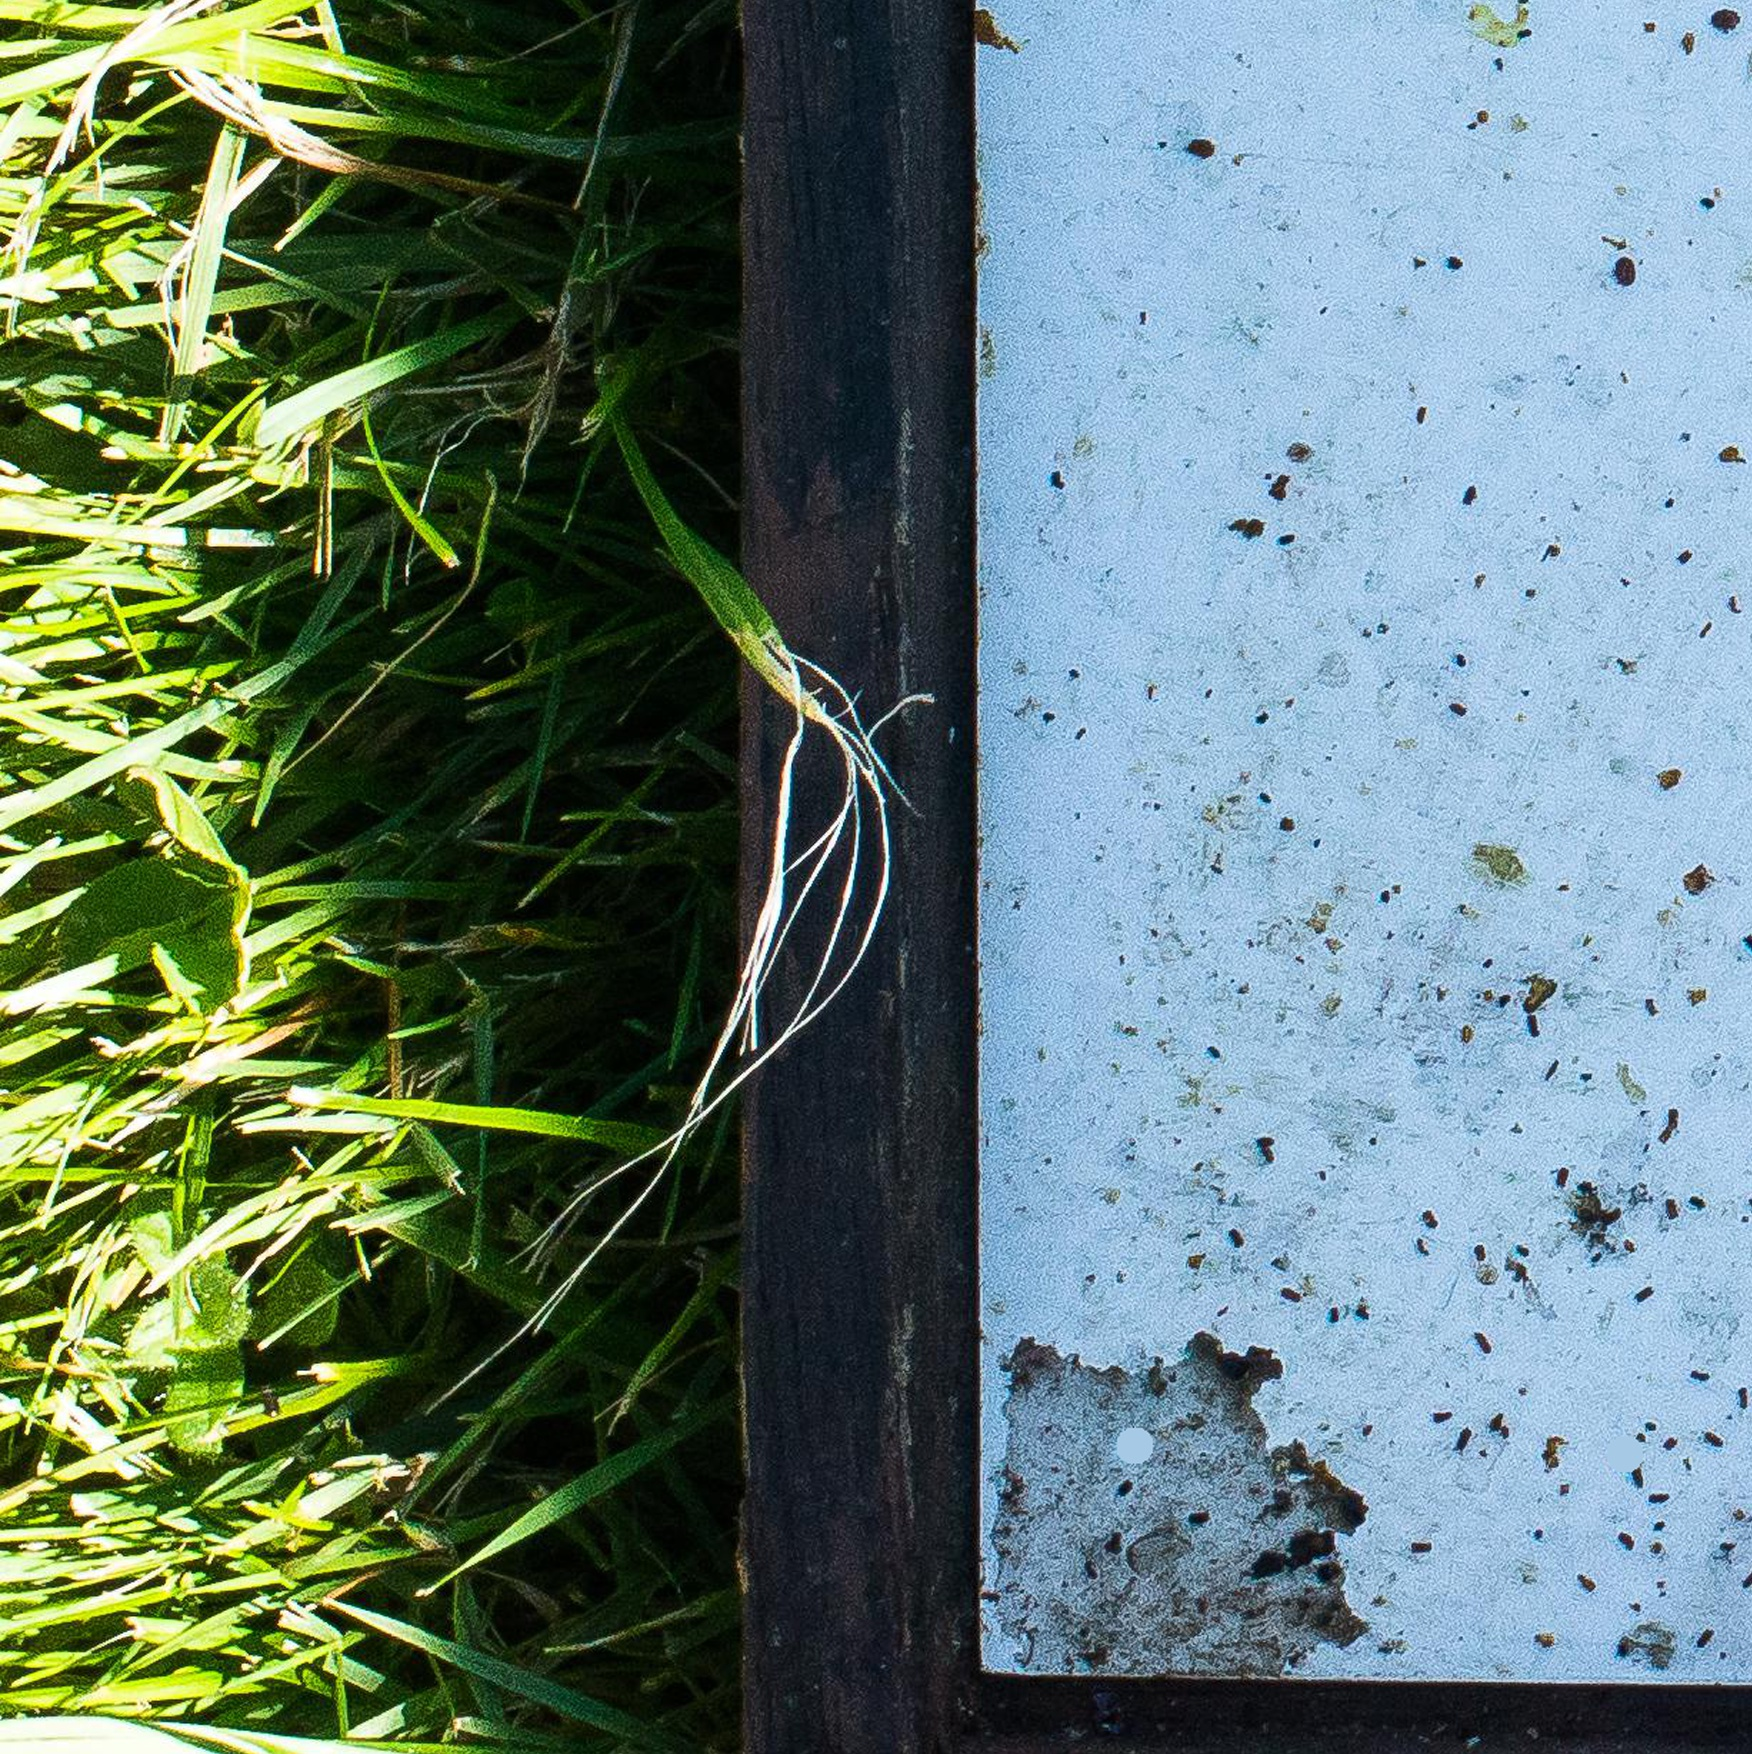Varroa: (1709, 2, 1741, 34), (1609, 254, 1641, 286)
